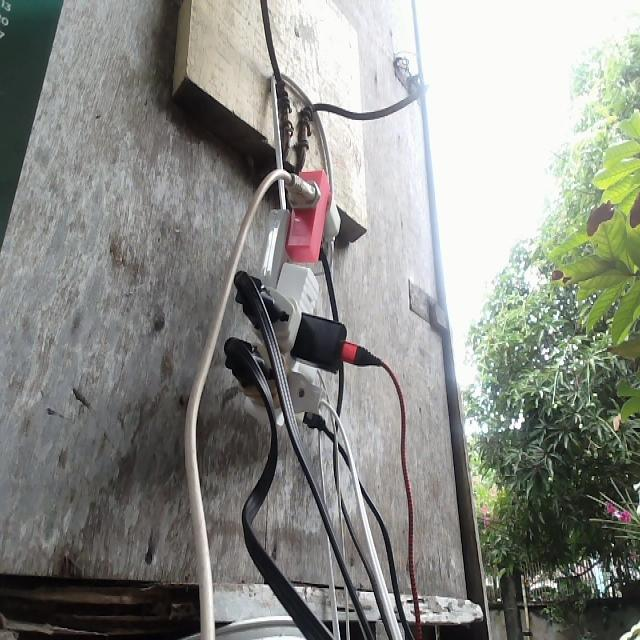-: (227, 167, 379, 425)
